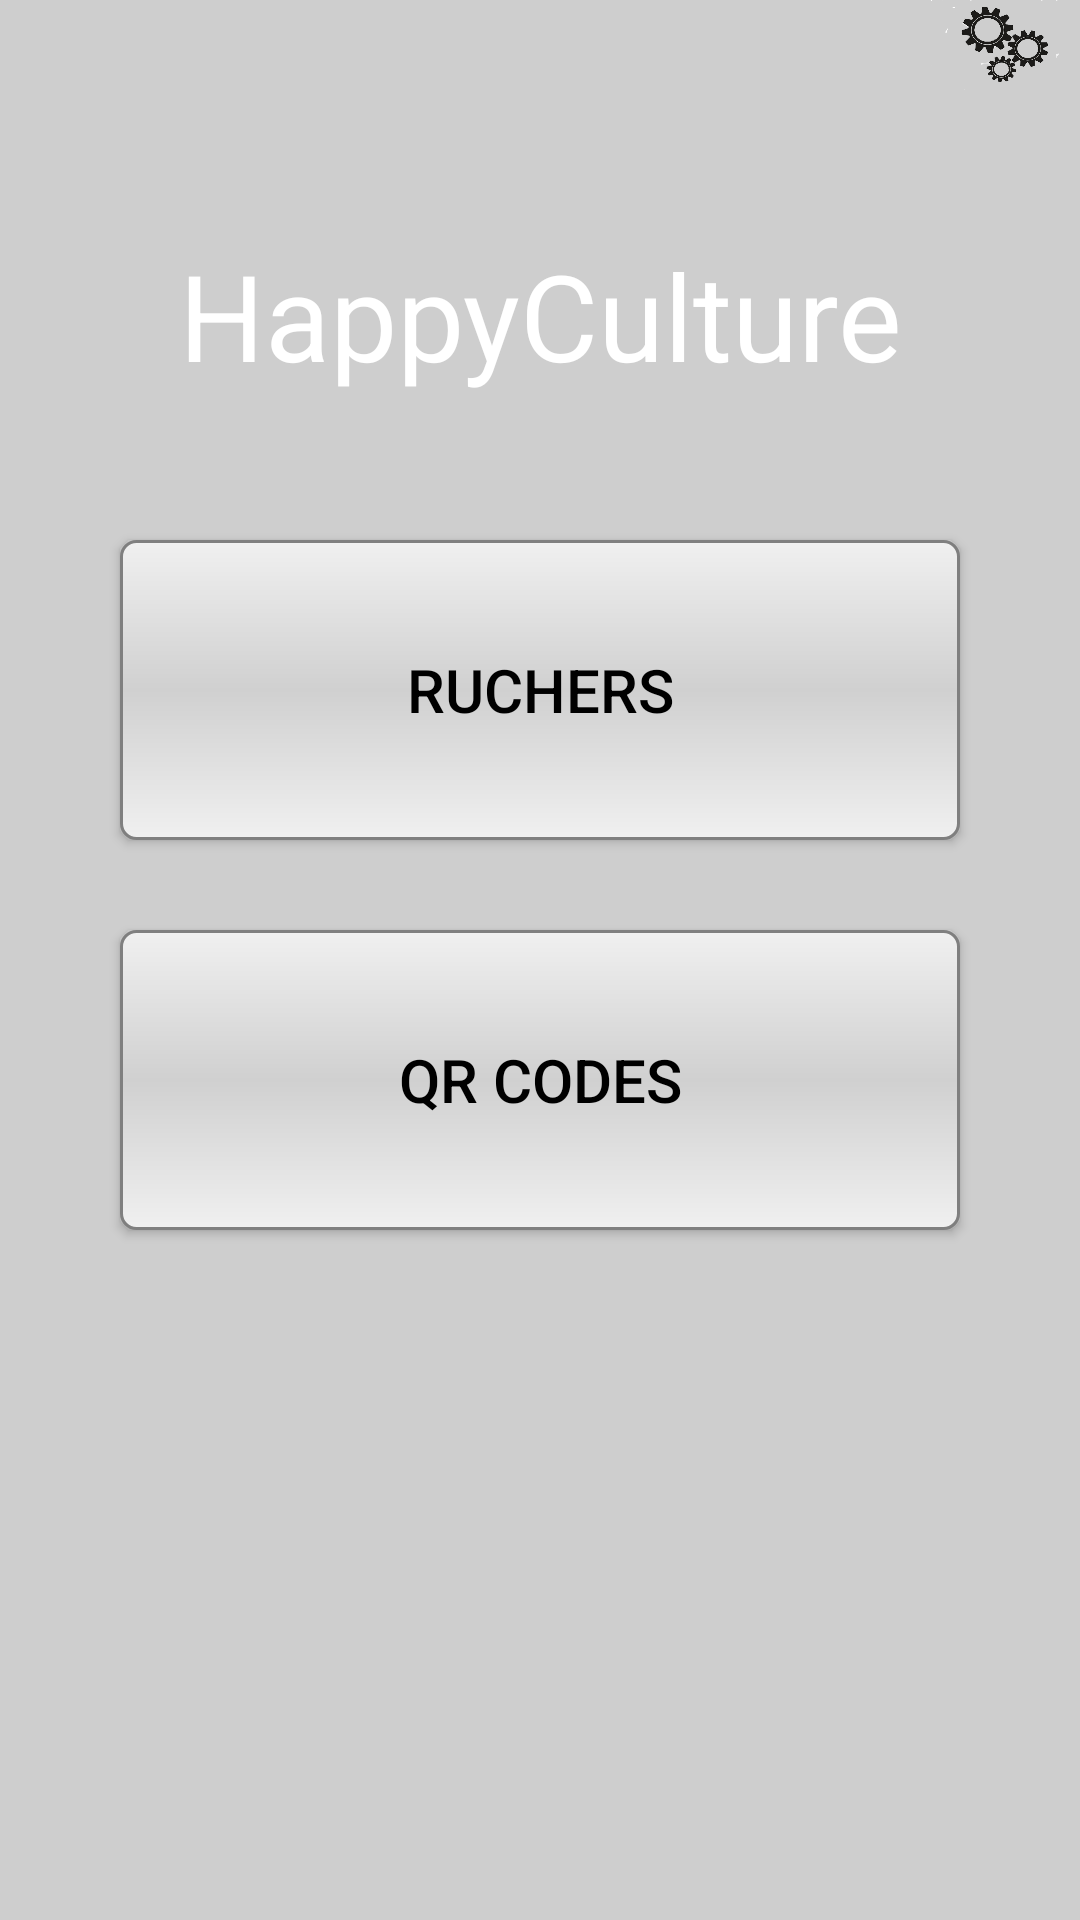

Icon bounding boxes for this 1080x1920 phone screenshot, format (x1, y1, x2, y2):
engrenages: (931, 0, 1059, 82)
